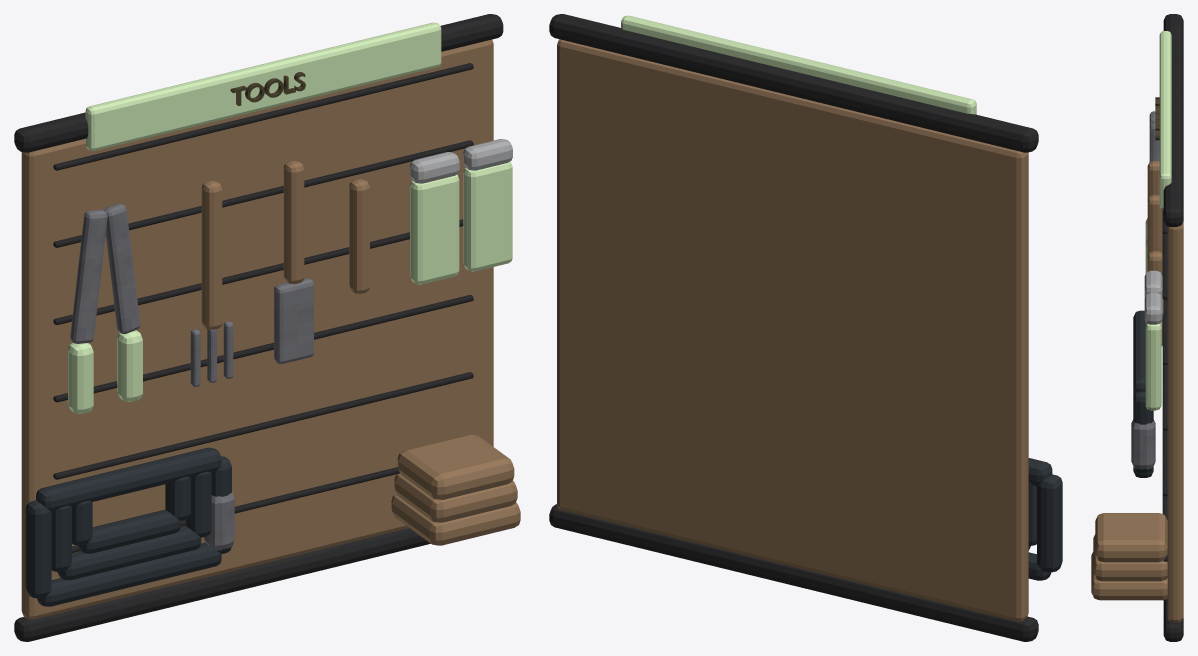
File: decor_bot_tool_rack.glb
3 renders of one model, left to right at view 1: azimuth 30°, elevation 25°; view 2: azimuth 150°, elevation 25°; view 3: azimuth 270°, elevation 25°, orthographic. The views are drawn at different scales.
Visible parts, largest first — view 1: DEC_BotToolRack__Board, DEC_BotToolRack__Header, DEC_BotToolRack__Board_Frame_Bottom, DEC_BotToolRack__Pot_Stack_3, DEC_BotToolRack__Glove_L, DEC_BotToolRack__Glove_R, DEC_BotToolRack__Hose_Coil_1_Bottom, DEC_BotToolRack__Board_Frame_Top, DEC_BotToolRack__Hose_Coil_1_Top, DEC_BotToolRack__Shears_Blade_A, DEC_BotToolRack__Fork_Shaft, DEC_BotToolRack__Peg_Row_6 (+26 smaller); view 2: DEC_BotToolRack__Board, DEC_BotToolRack__Board_Frame_Top, DEC_BotToolRack__Board_Frame_Bottom, DEC_BotToolRack__Header, DEC_BotToolRack__Hose_Coil_1_Left; view 3: DEC_BotToolRack__Board, DEC_BotToolRack__Pot_Stack_3, DEC_BotToolRack__Board_Frame_Top, DEC_BotToolRack__Header, DEC_BotToolRack__Pot_Stack_1, DEC_BotToolRack__Pot_Stack_2, DEC_BotToolRack__Glove_R, DEC_BotToolRack__Hose_Nozzle, DEC_BotToolRack__Hose_Coil_1_Top, DEC_BotToolRack__Trowel_Shaft, DEC_BotToolRack__Hose_Coil_1_Right, DEC_BotToolRack__Glove_Cuff_R (+12 smaller).
Part boxes in pixels (x1,y1,x2,y2): DEC_BotToolRack__Board: [21, 39, 493, 619]; DEC_BotToolRack__Header: [85, 22, 441, 150]; DEC_BotToolRack__Board_Frame_Bottom: [14, 528, 430, 641]; DEC_BotToolRack__Pot_Stack_3: [397, 434, 514, 499]; DEC_BotToolRack__Glove_L: [410, 174, 459, 284]; DEC_BotToolRack__Glove_R: [463, 161, 512, 271]; DEC_BotToolRack__Hose_Coil_1_Bottom: [37, 542, 221, 606]; DEC_BotToolRack__Board_Frame_Top: [14, 14, 503, 152]; DEC_BotToolRack__Hose_Coil_1_Top: [36, 447, 221, 511]; DEC_BotToolRack__Shears_Blade_A: [70, 209, 107, 343]; DEC_BotToolRack__Fork_Shaft: [201, 180, 222, 329]; DEC_BotToolRack__Peg_Row_6: [53, 63, 473, 170]; DEC_BotToolRack__Board: [557, 39, 1028, 621]; DEC_BotToolRack__Board_Frame_Top: [549, 14, 1038, 152]; DEC_BotToolRack__Board_Frame_Bottom: [549, 504, 1038, 641]; DEC_BotToolRack__Header: [621, 15, 976, 114]; DEC_BotToolRack__Hose_Coil_1_Left: [1037, 474, 1062, 572]; DEC_BotToolRack__Board: [1167, 221, 1183, 622]; DEC_BotToolRack__Pot_Stack_3: [1095, 513, 1167, 562]; DEC_BotToolRack__Board_Frame_Top: [1163, 14, 1183, 226]; DEC_BotToolRack__Header: [1159, 31, 1171, 209]; DEC_BotToolRack__Pot_Stack_1: [1091, 552, 1167, 600]; DEC_BotToolRack__Pot_Stack_2: [1093, 534, 1167, 581]; DEC_BotToolRack__Glove_R: [1145, 321, 1161, 410]; DEC_BotToolRack__Hose_Nozzle: [1131, 419, 1155, 469]; DEC_BotToolRack__Hose_Coil_1_Top: [1133, 310, 1145, 393]; DEC_BotToolRack__Trowel_Shaft: [1147, 195, 1162, 255]; DEC_BotToolRack__Hose_Coil_1_Right: [1133, 391, 1153, 473]; DEC_BotToolRack__Glove_Cuff_R: [1144, 292, 1162, 324].
Size of the model in its own units: 1.19 by 1.22 by 0.23.
7 materials, 3 textured.
